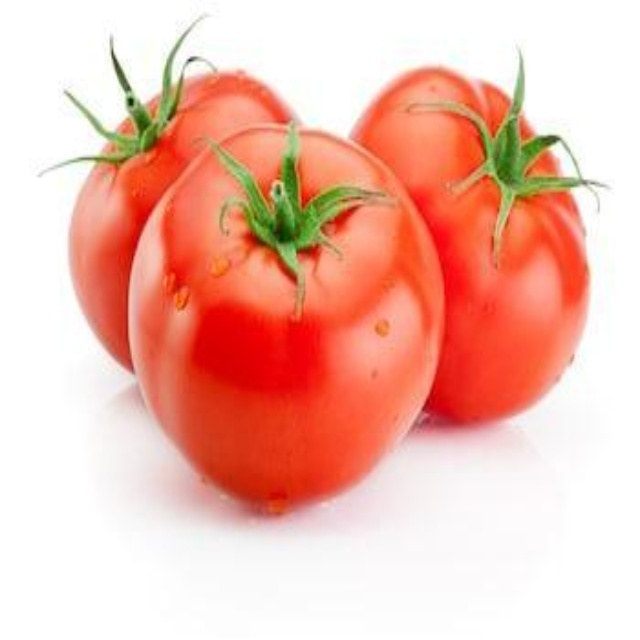tomato: (135, 125, 441, 512), (356, 70, 593, 412), (67, 73, 285, 364)
